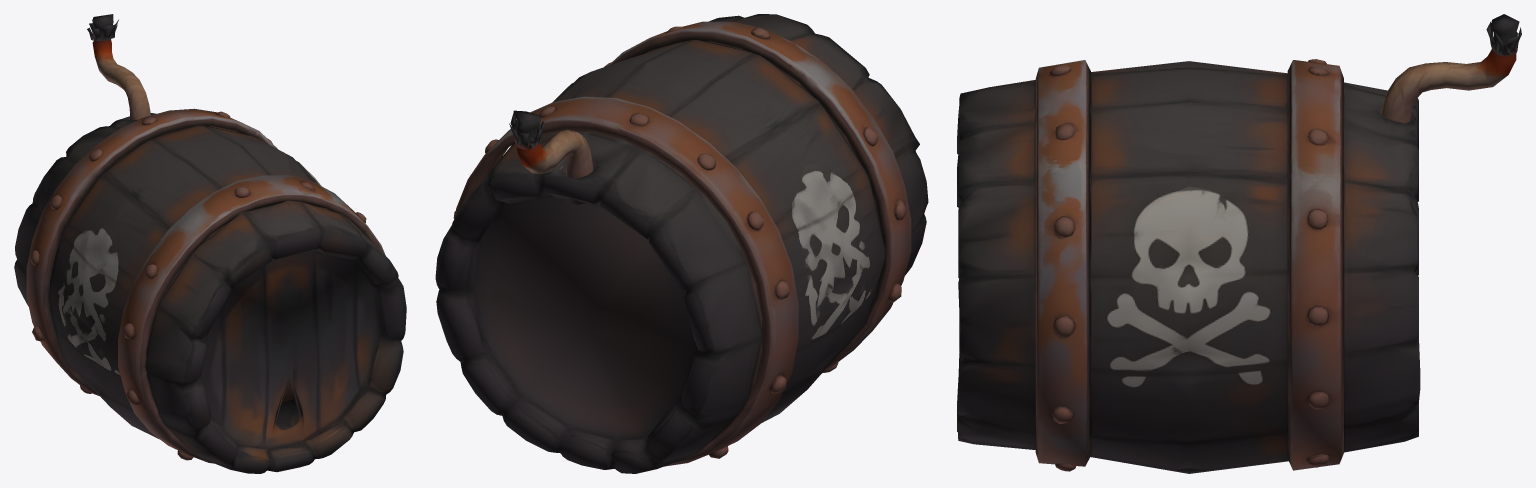
The model's file is powderkeg_tripo.glb.
3 views of the same model, side by side, from view 1: azimuth 30°, elevation 25°; view 2: azimuth 150°, elevation 25°; view 3: azimuth 270°, elevation 25° (orthographic). The views are drawn at different scales.
Parts seen in each view (by area): view 1: tripo_node_a20ec175-34fd-4e1f-8e55-fc4caedd3e86; view 2: tripo_node_a20ec175-34fd-4e1f-8e55-fc4caedd3e86; view 3: tripo_node_a20ec175-34fd-4e1f-8e55-fc4caedd3e86.
Part boxes in pixels (x1,y1,x2,y2): tripo_node_a20ec175-34fd-4e1f-8e55-fc4caedd3e86: (14,14,406,473); tripo_node_a20ec175-34fd-4e1f-8e55-fc4caedd3e86: (435,14,928,473); tripo_node_a20ec175-34fd-4e1f-8e55-fc4caedd3e86: (957,14,1521,473).
Size of the model in its own units: 0.7363 by 0.8535 by 0.998.
Materials: 1 (1 with a texture image).
